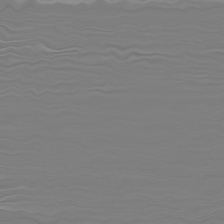cavities: (121, 66, 180, 126)
